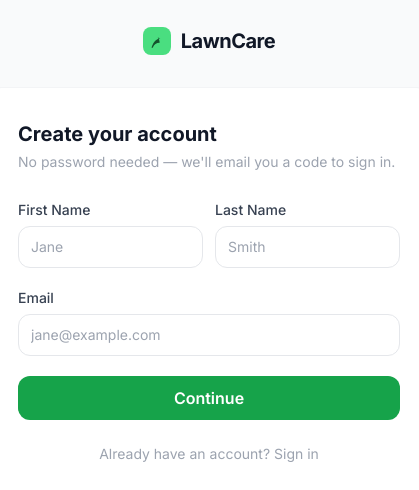
it: Signup — details step › shows an invalid-email error for a malformed address
Type "John" into the field with placeholder "Jane" at (110, 247), box [18,226,203,268]
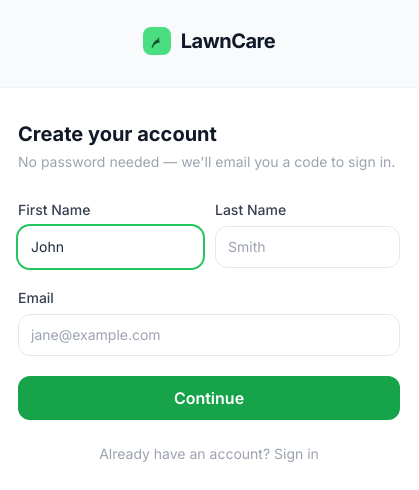
Type "Doe" into the field with placeholder "Smith" at (308, 247), box [215,226,400,268]
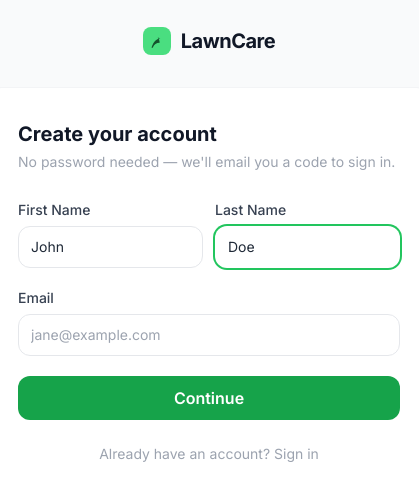
Type "notanemail" into the field with placeholder "jane@example.com" at (209, 335), box [18,314,400,356]
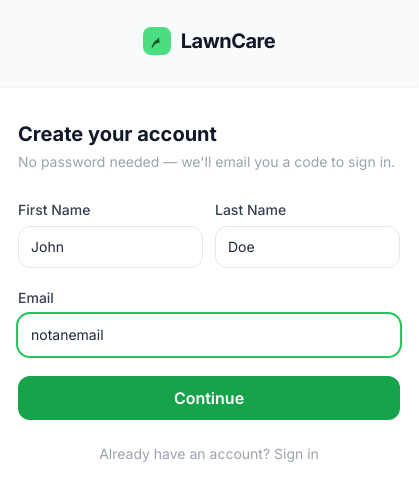
Click the button "Continue" at (209, 398), box [18,376,400,420]
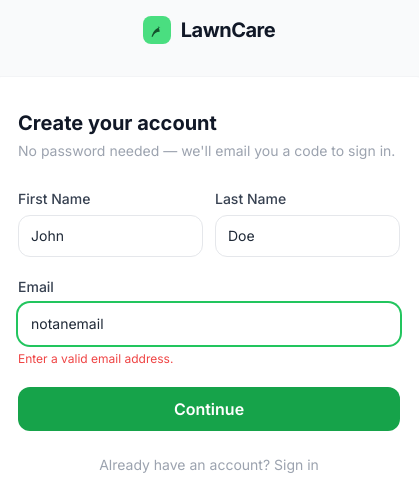
Expected: the text "Enter a valid email address." is shown, [18,351,173,366]
